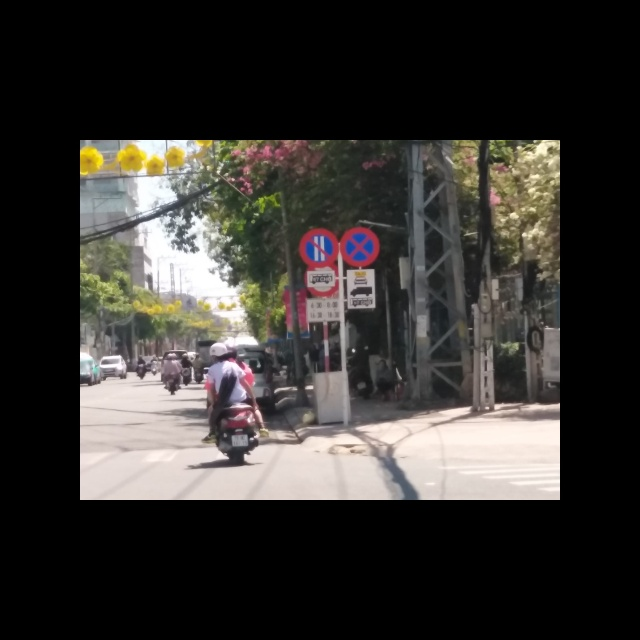Cấm dừng xe và đỗ xe: (340, 227, 380, 267)
Cấm đỗ xe ngày chẵn: (298, 228, 340, 268)
